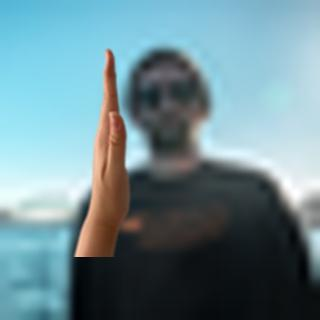Right: (60, 48, 152, 260)
